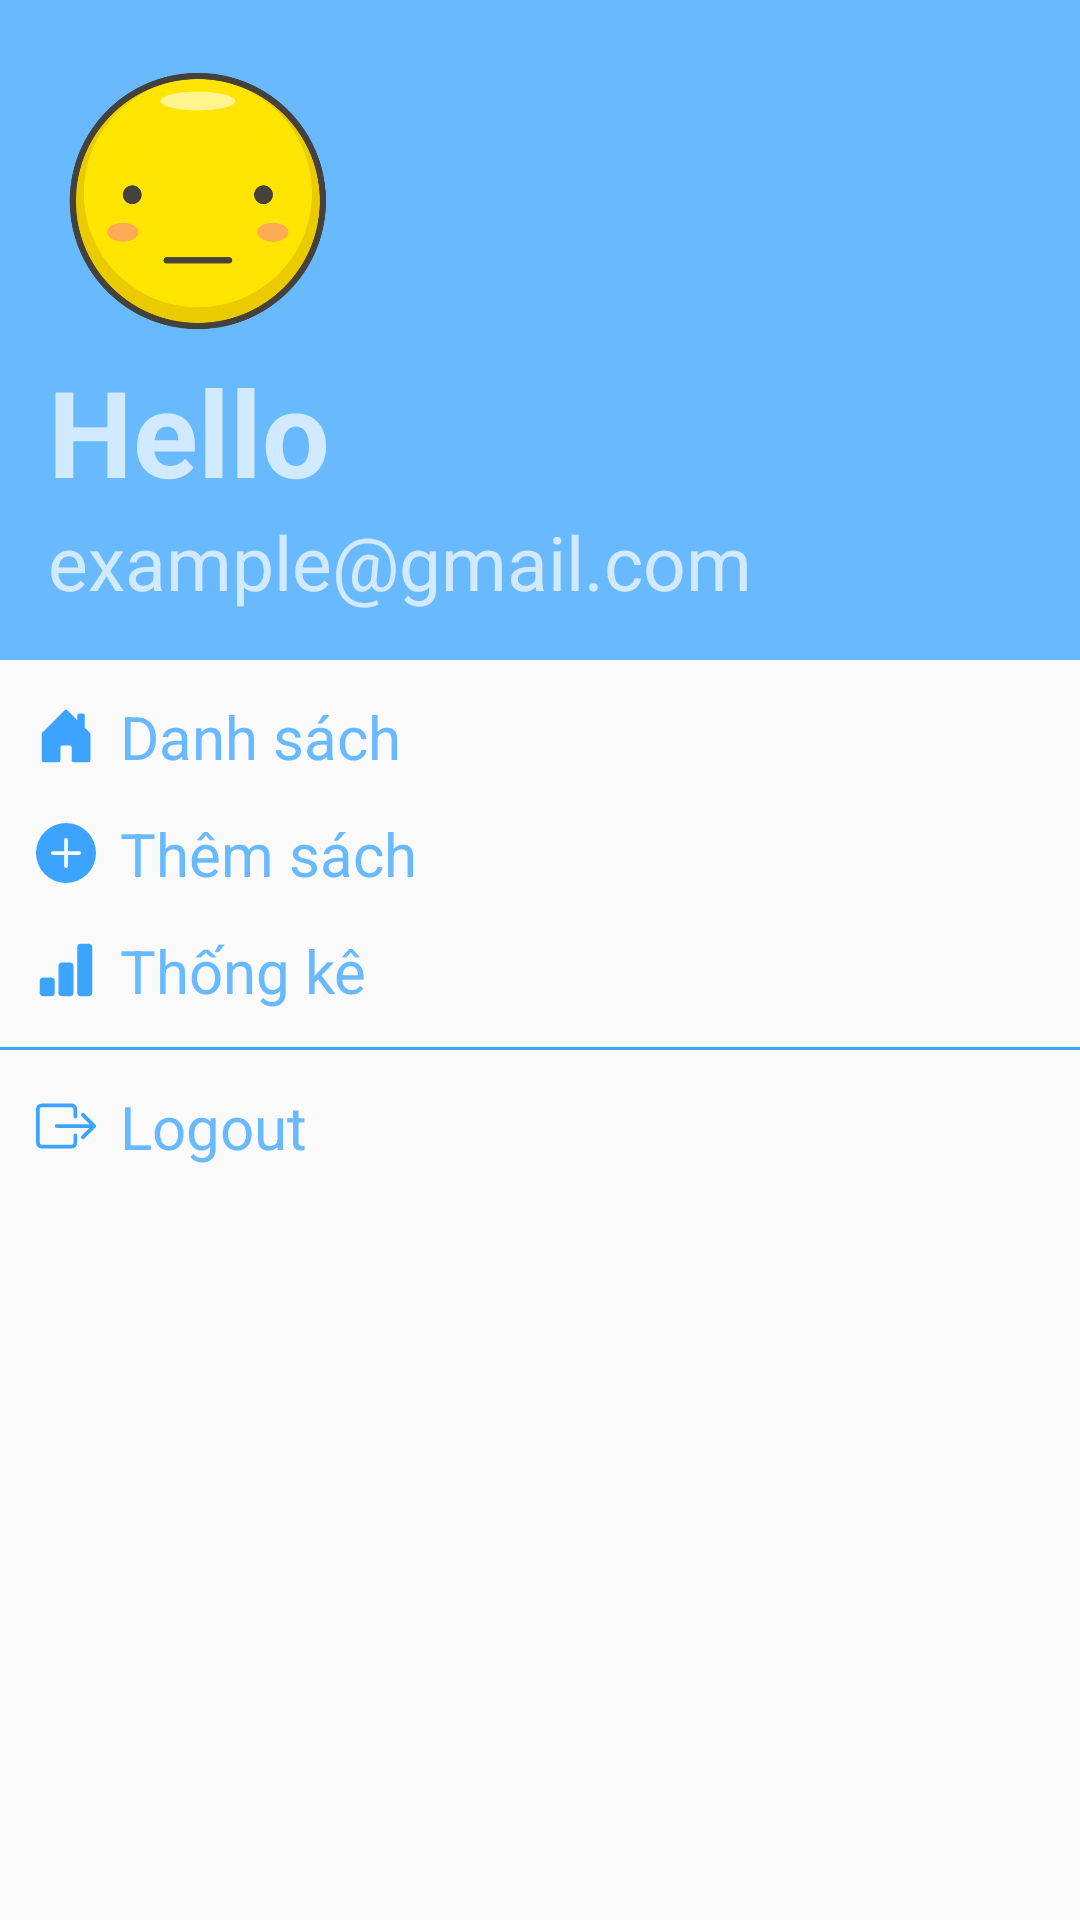

Icon click points for this 1080x1920 phone screenshot, format (x,y):
emoji: (197,201)
